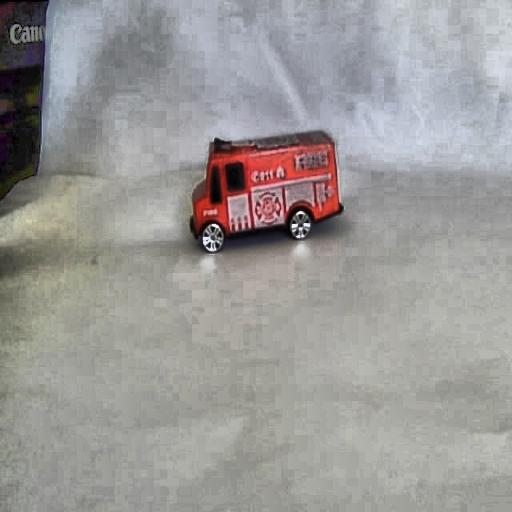fire_truck: (186, 129, 344, 253), (294, 138, 334, 168)
